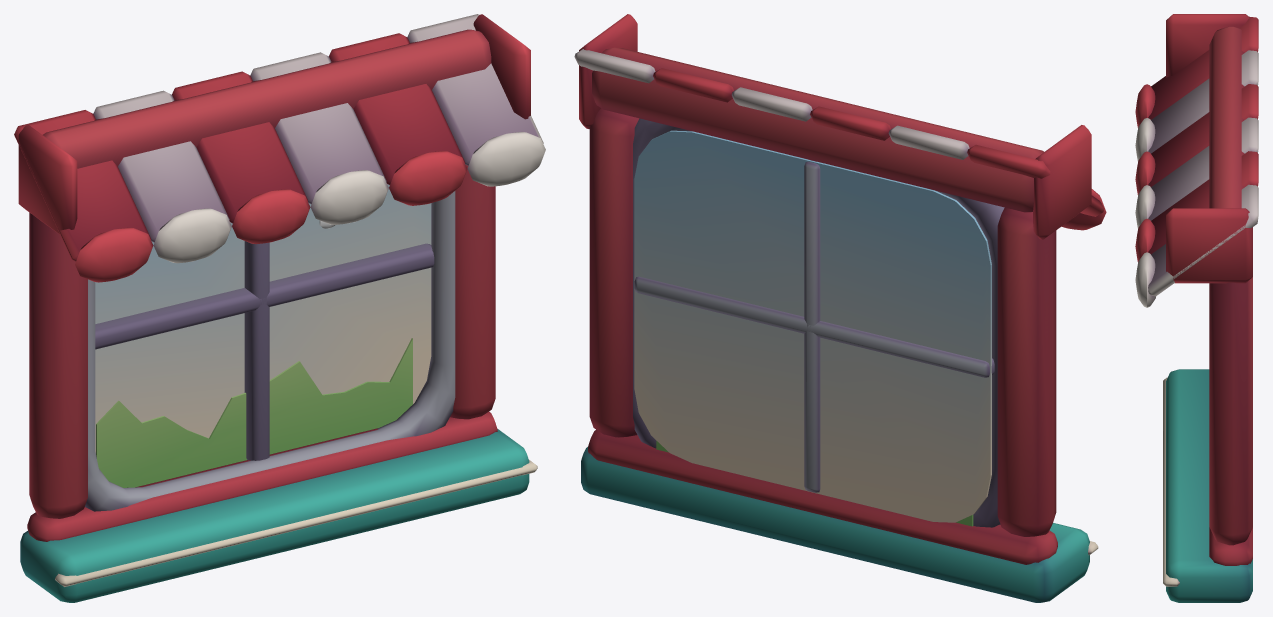
The model's file is window_retro.glb.
The picture shows the model from 3 angles, left to right: view 1: azimuth 30°, elevation 25°; view 2: azimuth 150°, elevation 25°; view 3: azimuth 270°, elevation 25°; orthographic projection. The views are drawn at different scales.
Visible parts, largest first — view 1: window_retro, window_retro_glass; view 2: window_retro, window_retro_glass; view 3: window_retro.
Boxes of the visible parts, x1,y1,x2,y2 form: window_retro: [14, 14, 545, 602]; window_retro_glass: [95, 184, 431, 487]; window_retro: [574, 14, 1106, 602]; window_retro_glass: [634, 130, 991, 526]; window_retro: [1135, 14, 1258, 602].
Bounding box in the file's own units: 1.66 × 1.5 × 0.4232.
